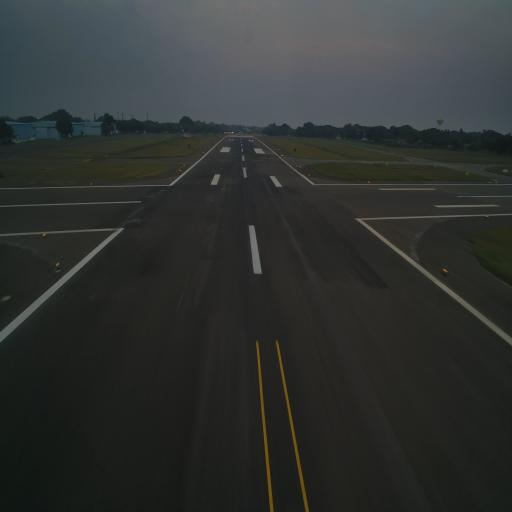on: (53, 259, 61, 273), (441, 266, 449, 278), (40, 229, 46, 240), (484, 212, 489, 222), (366, 178, 372, 186), (89, 180, 94, 189)
